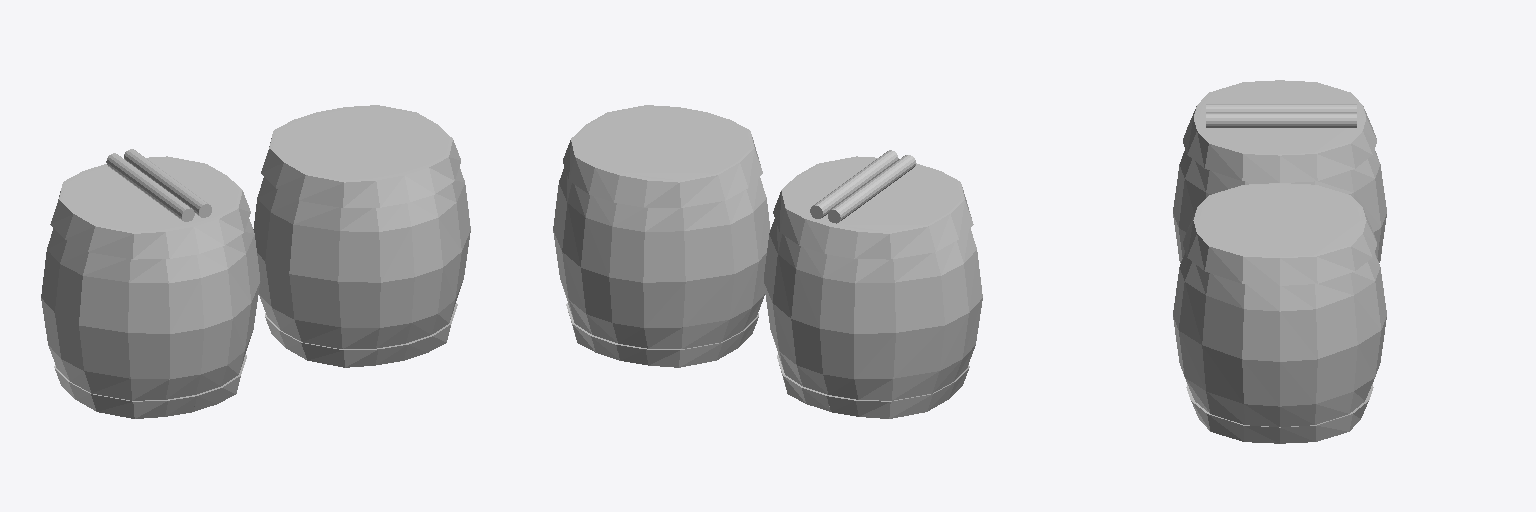
File: Klong that-2.obj
The picture shows the model from 3 angles: view 1: azimuth 30°, elevation 25°; view 2: azimuth 150°, elevation 25°; view 3: azimuth 270°, elevation 25°; orthographic projection.
Visible parts, largest first — view 1: Klong_that-1, Klong_that-1.001, Cylinder.002, Cylinder.001; view 2: Klong_that-1, Klong_that-1.001, Cylinder.002, Cylinder.001; view 3: Klong_that-1, Klong_that-1.001, Cylinder.001, Cylinder.002.
Boxes of the visible parts, x1=… form: Klong_that-1: x1=253, y1=105, x2=470, y2=367; Klong_that-1.001: x1=41, y1=156, x2=260, y2=418; Cylinder.002: x1=106, y1=153, x2=194, y2=221; Cylinder.001: x1=124, y1=149, x2=211, y2=217; Klong_that-1: x1=553, y1=105, x2=770, y2=367; Klong_that-1.001: x1=763, y1=156, x2=982, y2=418; Cylinder.002: x1=828, y1=155, x2=915, y2=223; Cylinder.001: x1=810, y1=150, x2=898, y2=218; Klong_that-1: x1=1173, y1=183, x2=1386, y2=443; Klong_that-1.001: x1=1173, y1=80, x2=1386, y2=262; Cylinder.001: x1=1206, y1=113, x2=1356, y2=127; Cylinder.002: x1=1206, y1=104, x2=1356, y2=112.
Bounding box in the file's own units: 4.02 × 1.91 × 1.85.